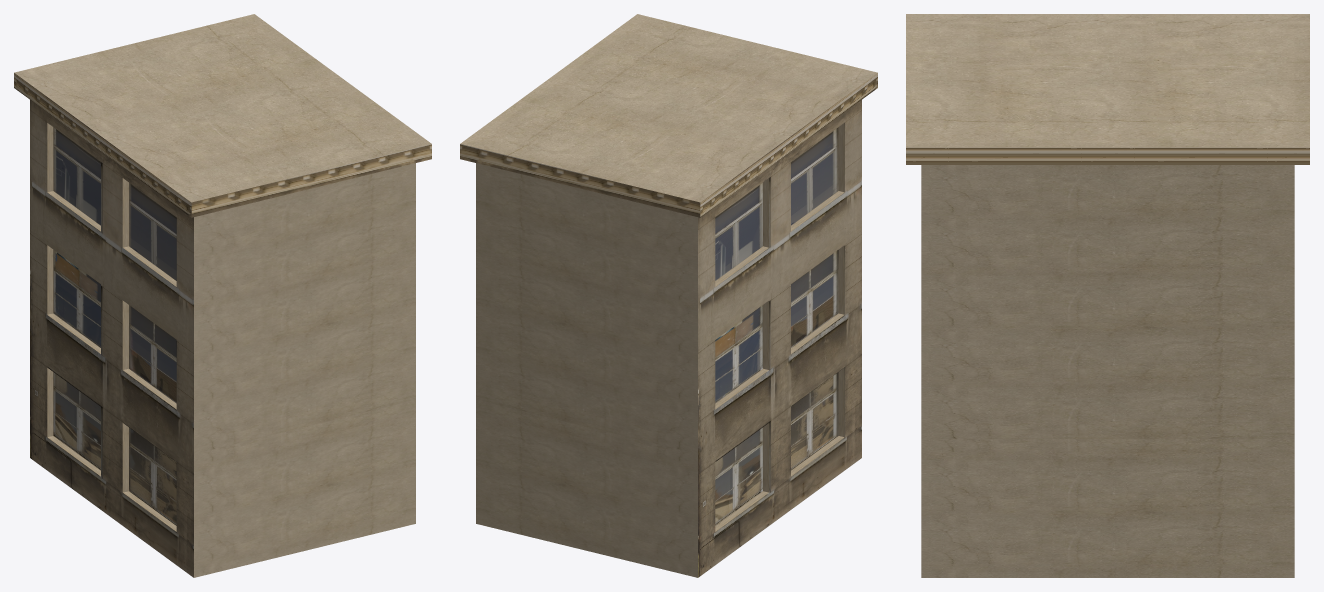
Rendered from building08.fbx.
3 views of the same model, side by side, from view 1: azimuth 30°, elevation 25°; view 2: azimuth 150°, elevation 25°; view 3: azimuth 270°, elevation 25° (orthographic). The views are drawn at different scales.
Visible parts, largest first — view 1: building08; view 2: building08; view 3: building08.
Part boxes in pixels (x1,y1,x2,y2): building08: [14, 14, 431, 577]; building08: [460, 14, 877, 577]; building08: [906, 14, 1309, 577].
Size of the model in its own units: 84.92 by 129 by 109.
